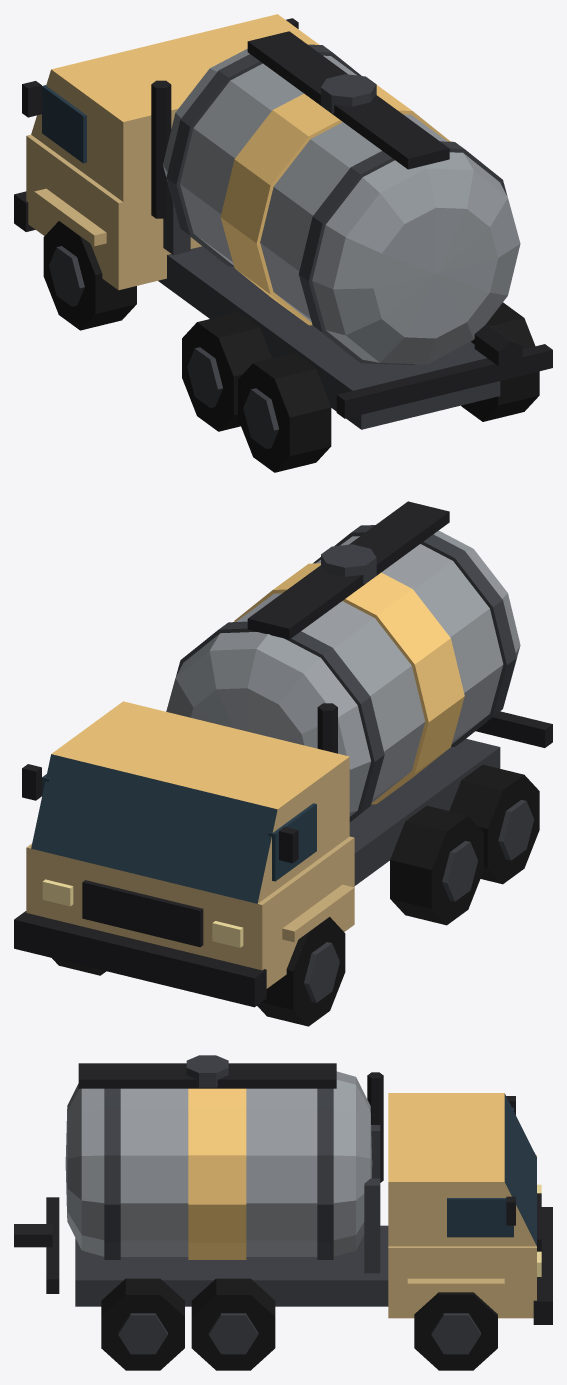
The model's file is tanker_truck.glb.
3 renders of one model, top to bottom at view 1: azimuth 30°, elevation 25°; view 2: azimuth 150°, elevation 25°; view 3: azimuth 270°, elevation 25°, orthographic. The views are drawn at different scales.
Visible parts, largest first — view 1: tanker_truck; view 2: tanker_truck; view 3: tanker_truck.
Boxes of the visible parts, box(x1,y1,x2,y2) form: tanker_truck: box(14, 14, 552, 472); tanker_truck: box(14, 501, 552, 1026); tanker_truck: box(14, 1055, 552, 1370).
Bounding box in the file's own units: 0.78 × 0.8793 × 1.67.
